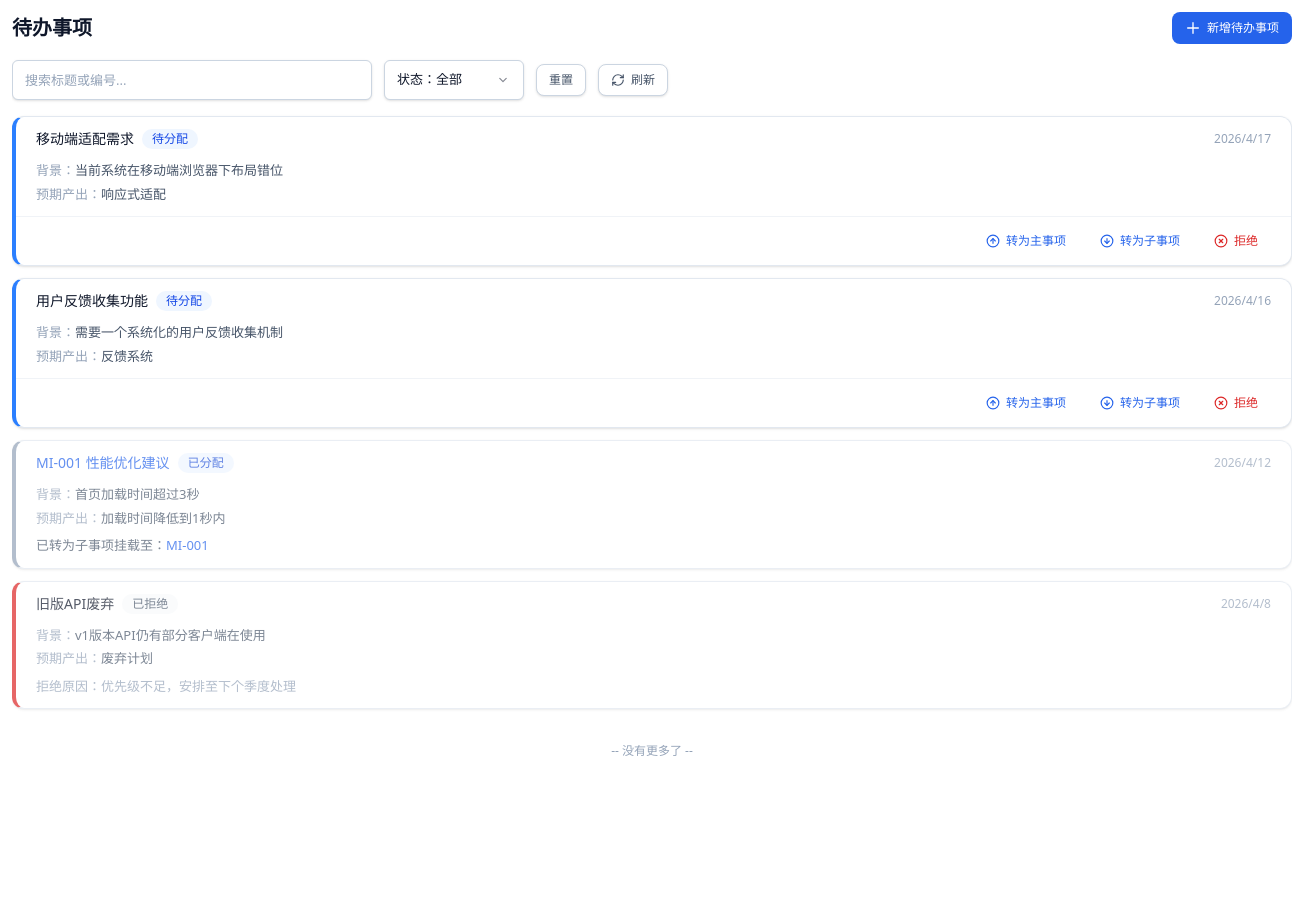
Scenario: ItemPoolPage › filters items by search text
The image size is (1304, 912).
Expected: the text "移动端适配需求" is shown, left=36, top=129, right=134, bottom=149
Type "移动端" into the field with placeholder "搜索标题或编号..." at (192, 80), box left=12, top=60, right=372, bottom=100
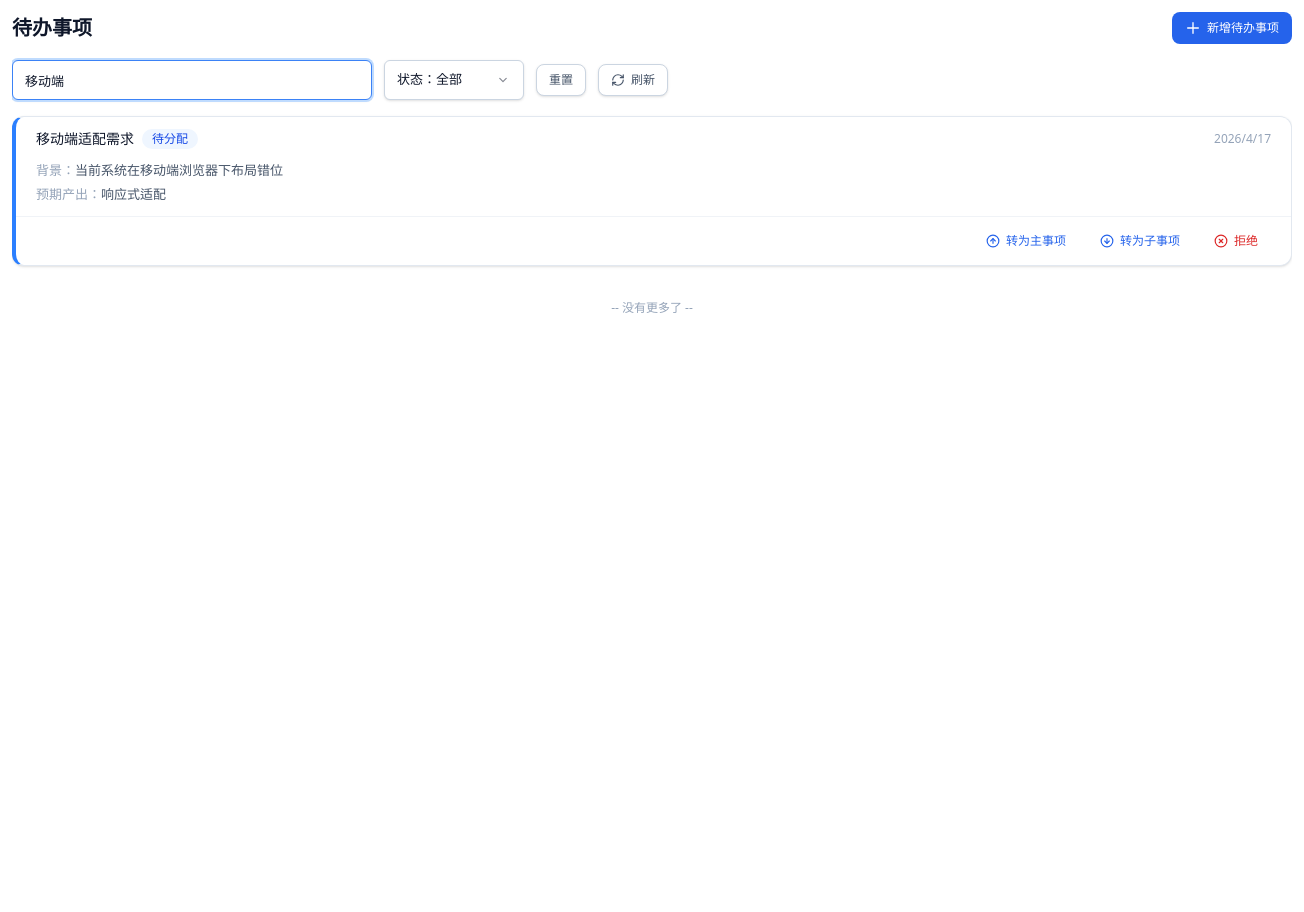
Expected: the text "移动端适配需求" is shown, left=36, top=129, right=134, bottom=149
Expected: the text "用户反馈收集功能" is gone
